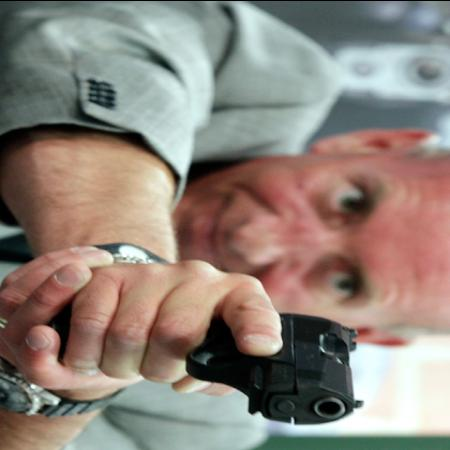Pistol: (158, 276, 362, 428)
